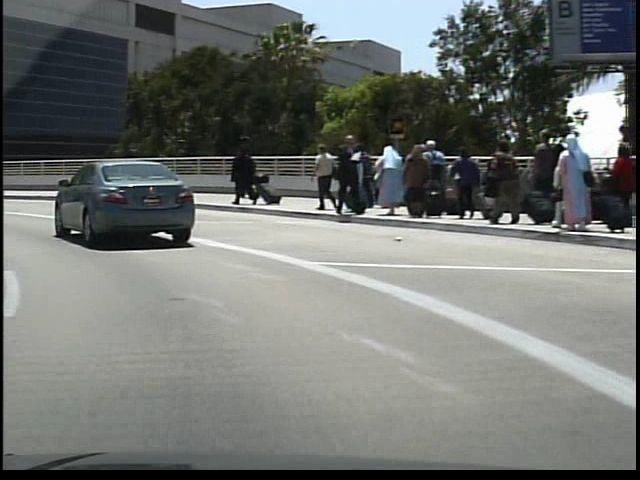person: (328, 132, 362, 217), (307, 141, 332, 213), (226, 145, 255, 206), (234, 153, 253, 201)
